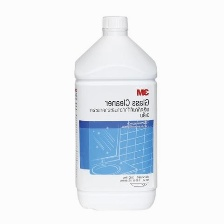cleaning_solution: (72, 12, 161, 214)
